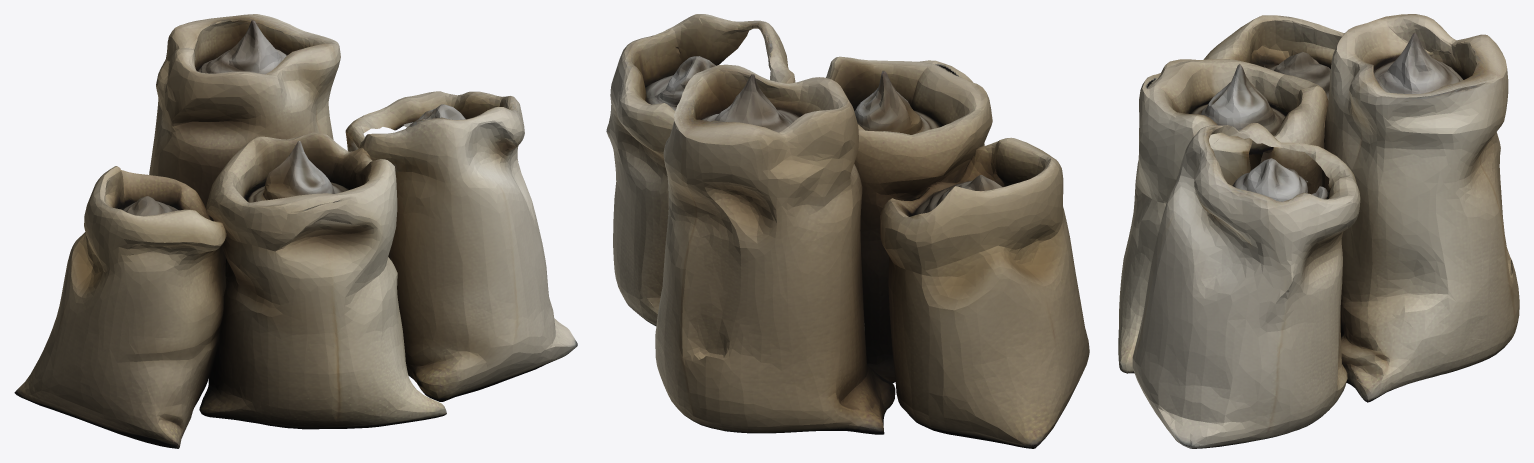
The model's file is sacos.glb.
The picture shows the model from 3 angles, left to right: view 1: azimuth 30°, elevation 25°; view 2: azimuth 150°, elevation 25°; view 3: azimuth 270°, elevation 25°; orthographic projection. The views are drawn at different scales.
Visible parts, largest first — view 1: world; view 2: world; view 3: world.
Part boxes in pixels (x1,y1,x2,y2): world: (14,14,577,448); world: (606,14,1089,448); world: (1118,14,1519,448).
Size of the model in its own units: 0.991 by 0.6227 by 0.7117.
1 material, 1 textured.
